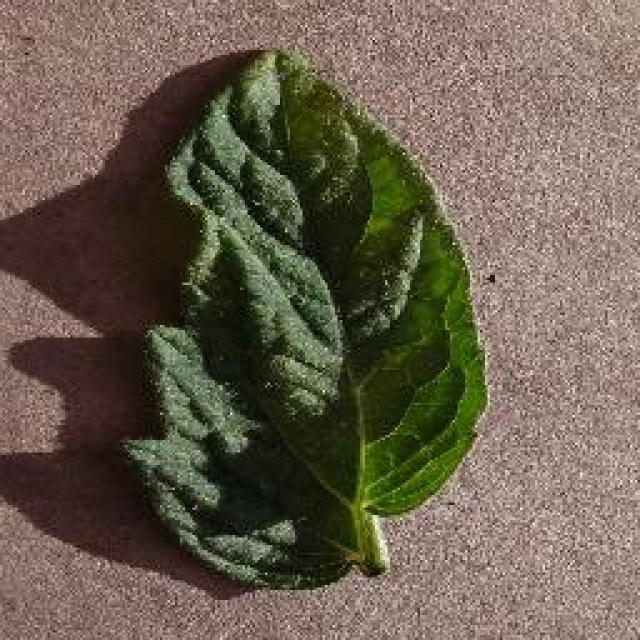Tom_Spider_mites Two-spotted_spider_mite: (194, 131, 426, 464)
